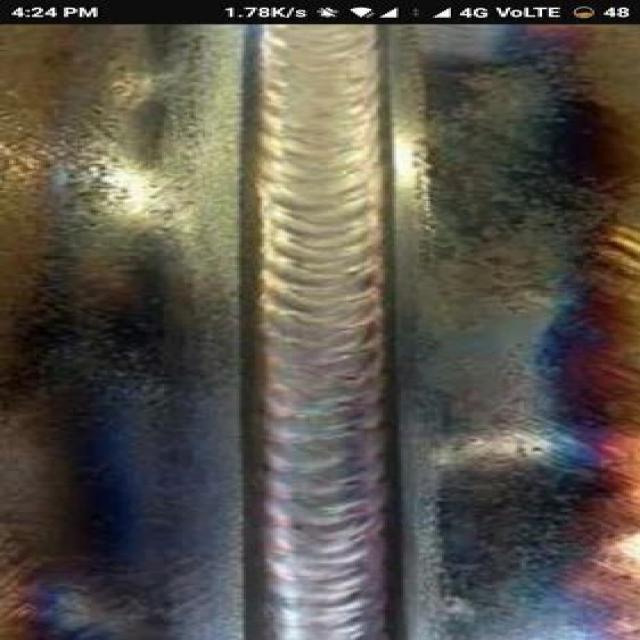Good Weld: (242, 23, 404, 639)
